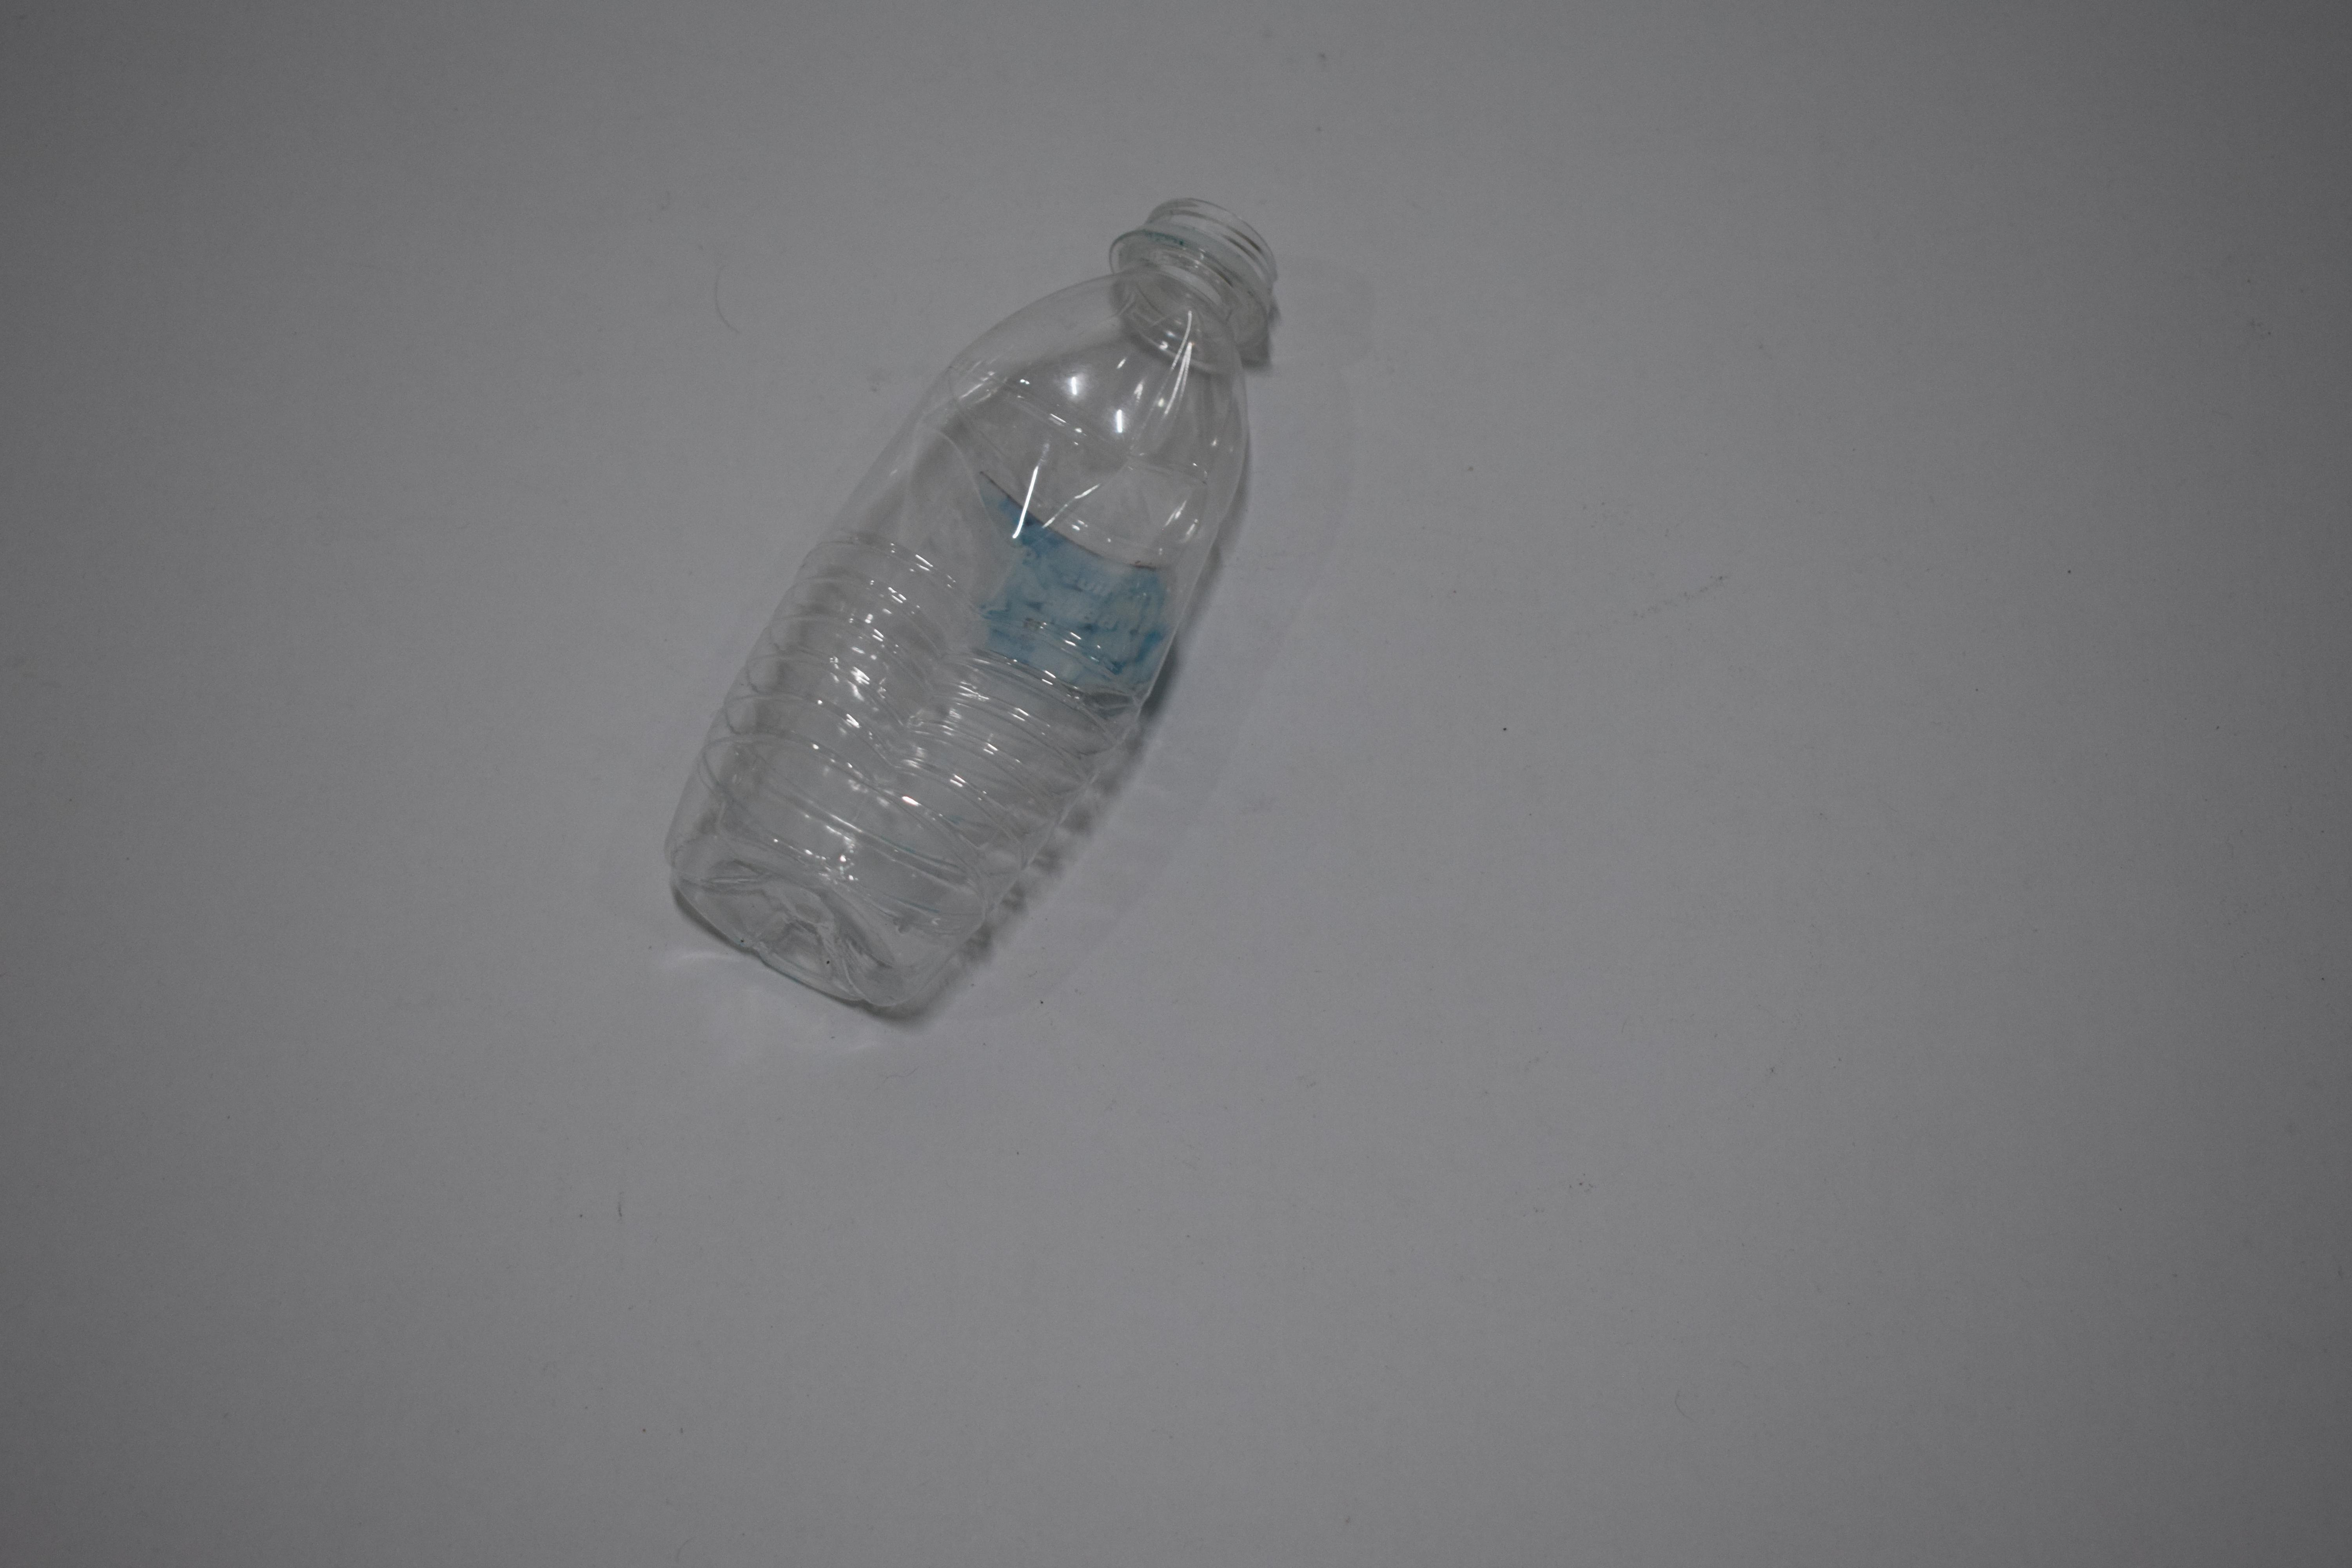bottle: (649, 572, 1288, 639)
